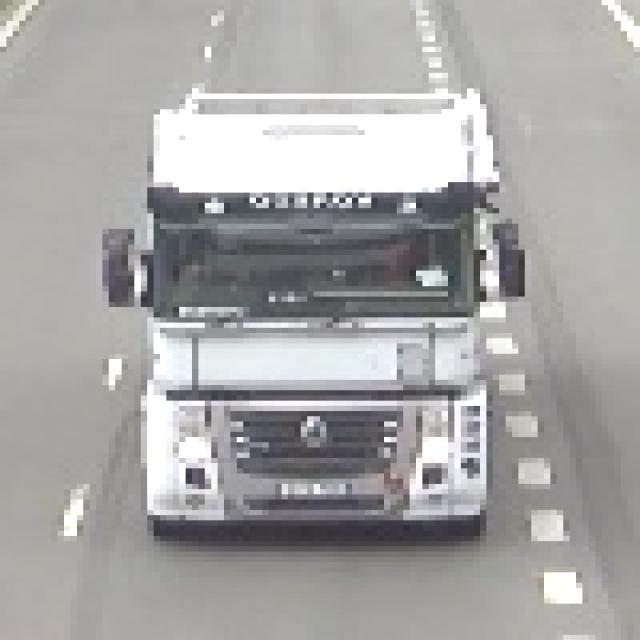TRUCK: (145, 90, 515, 528)
